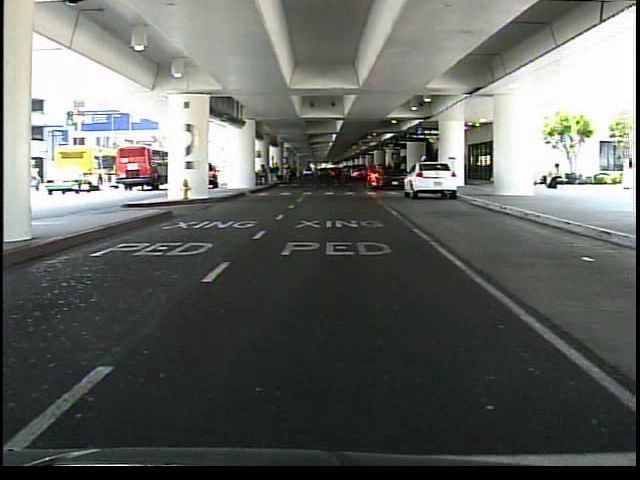person: (540, 156, 567, 194), (417, 153, 435, 198)
